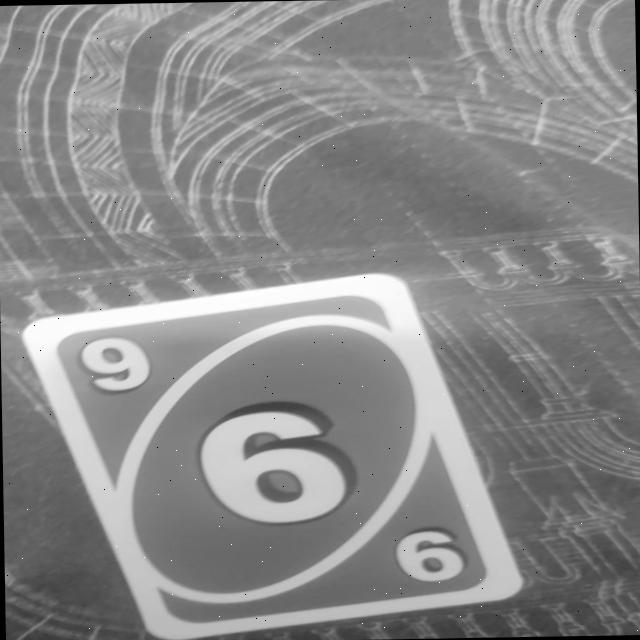card_6: (19, 268, 525, 640)
